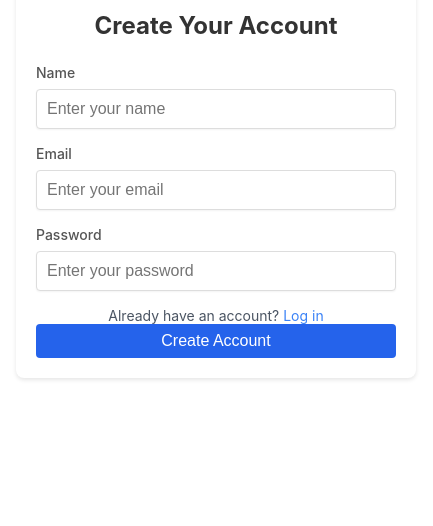
SignupForm Component › shows validation errors for empty form submission
This screenshot has width=433, height=526.
// Submit empty form
Click the button "Create Account" at point(216, 341), box x1=36 y1=324 x2=396 y2=358
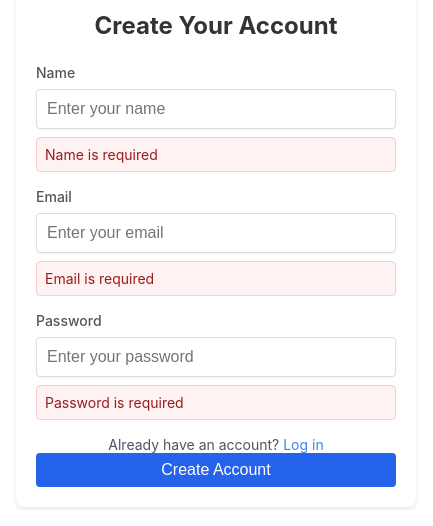
Expected: the text "Name is required" is shown, x1=36 y1=137 x2=396 y2=172
Expected: the text "Email is required" is shown, x1=36 y1=261 x2=396 y2=296
Expected: the text "Password is required" is shown, x1=36 y1=385 x2=396 y2=420
